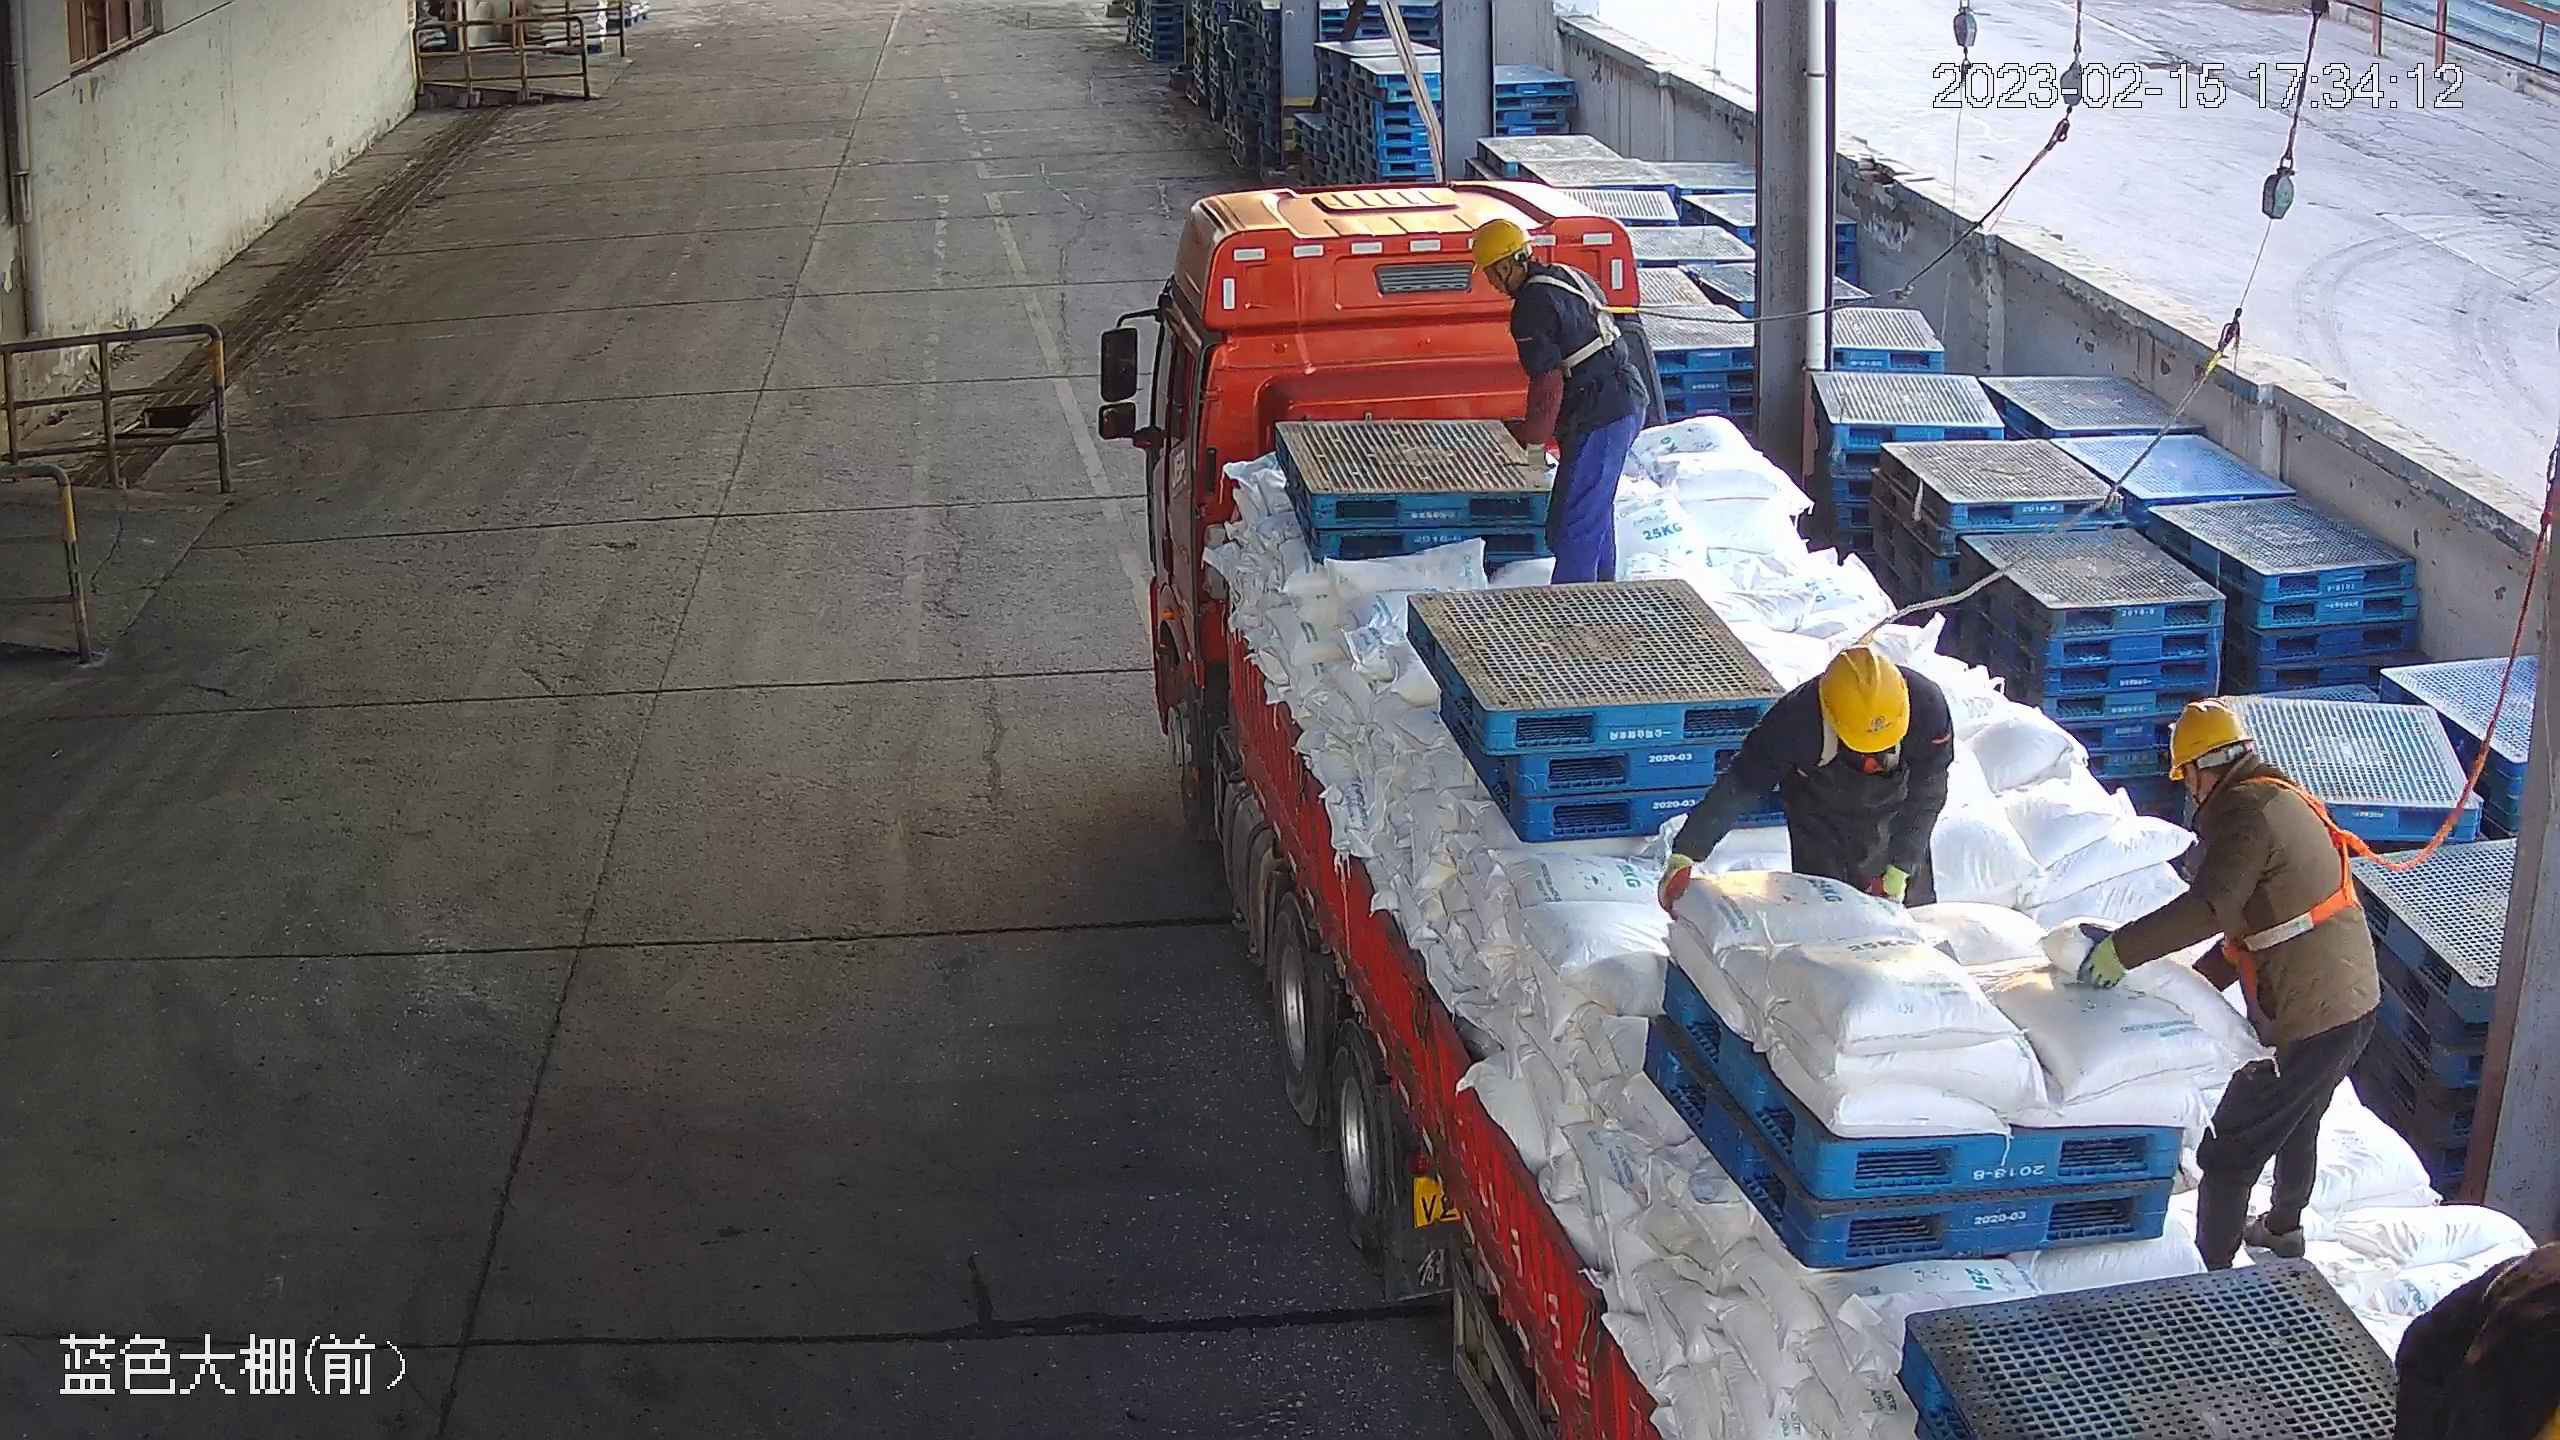belt: (2210, 766, 2390, 952), (1814, 623, 1915, 781), (1524, 259, 1646, 369)
head: (2167, 695, 2340, 860), (1751, 646, 1954, 775), (1469, 218, 1617, 331)
helmet: (1817, 646, 1911, 755), (2166, 698, 2257, 781), (1470, 218, 1534, 273)
people: (2077, 691, 2382, 1273), (1656, 646, 1953, 919), (1471, 218, 1653, 592)
truck: (1145, 179, 2524, 1440)
